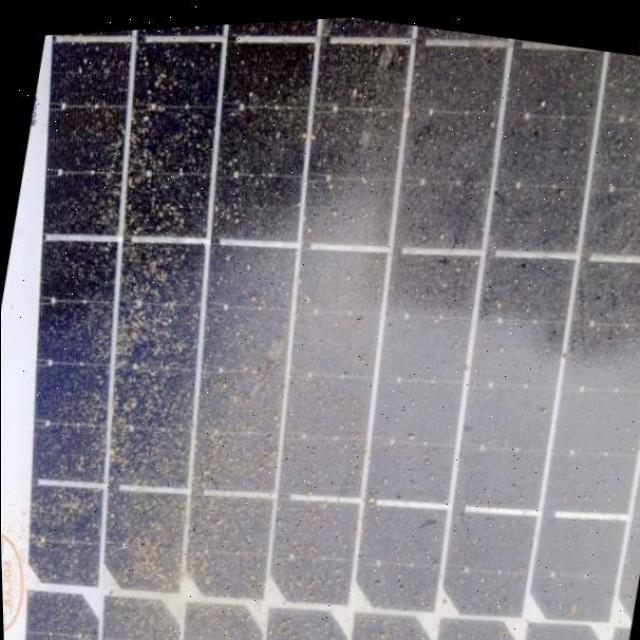Surface Contaminant: (22, 13, 640, 640)
